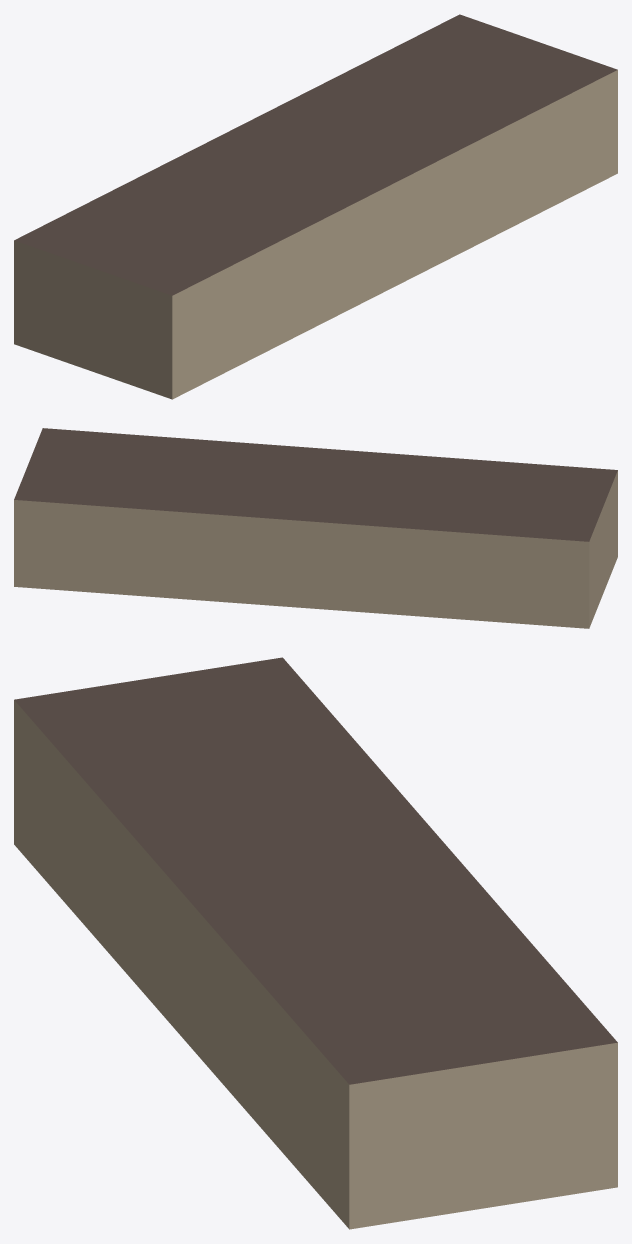
3 views of the same model, one above another, from view 1: azimuth 30°, elevation 25°; view 2: azimuth 150°, elevation 25°; view 3: azimuth 270°, elevation 25° (orthographic). The views are drawn at different scales.
Parts seen in each view (by area): view 1: HP-w1286957248; view 2: HP-w1286957248; view 3: HP-w1286957248.
Boxes of the visible parts, <box> form: HP-w1286957248: <box>14,14,617,399</box>; HP-w1286957248: <box>14,428,617,628</box>; HP-w1286957248: <box>14,657,617,1229</box>.
Size of the model in its own units: 56.99 by 9 by 34.04.
